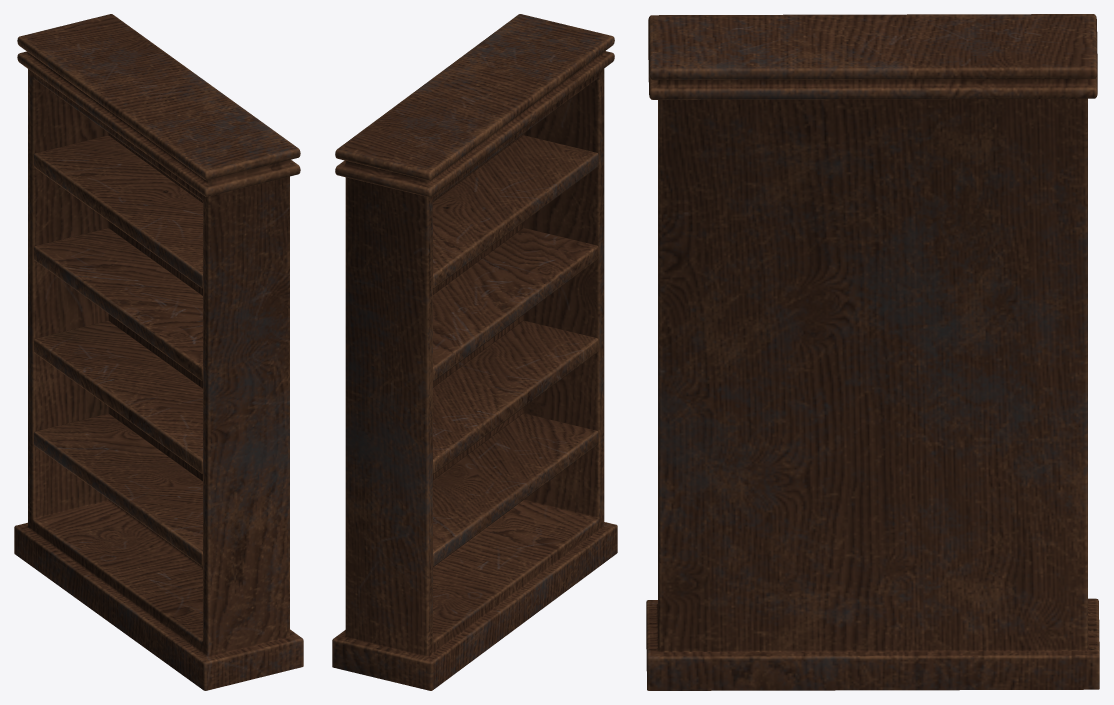
File: library.glb
The picture shows the model from 3 angles, left to right: view 1: azimuth 30°, elevation 25°; view 2: azimuth 150°, elevation 25°; view 3: azimuth 270°, elevation 25°; orthographic projection. The views are drawn at different scales.
Parts seen in each view (by area): view 1: BIBLIOTECA_uvs; view 2: BIBLIOTECA_uvs; view 3: BIBLIOTECA_uvs.
Part boxes in pixels (x1=…): BIBLIOTECA_uvs: x1=14, y1=14, x2=303, y2=690; BIBLIOTECA_uvs: x1=332, y1=14, x2=617, y2=690; BIBLIOTECA_uvs: x1=646, y1=14, x2=1099, y2=690.
Bounding box in the file's own units: 0.6008 × 2.92 × 1.94.
1 material, 1 textured.
